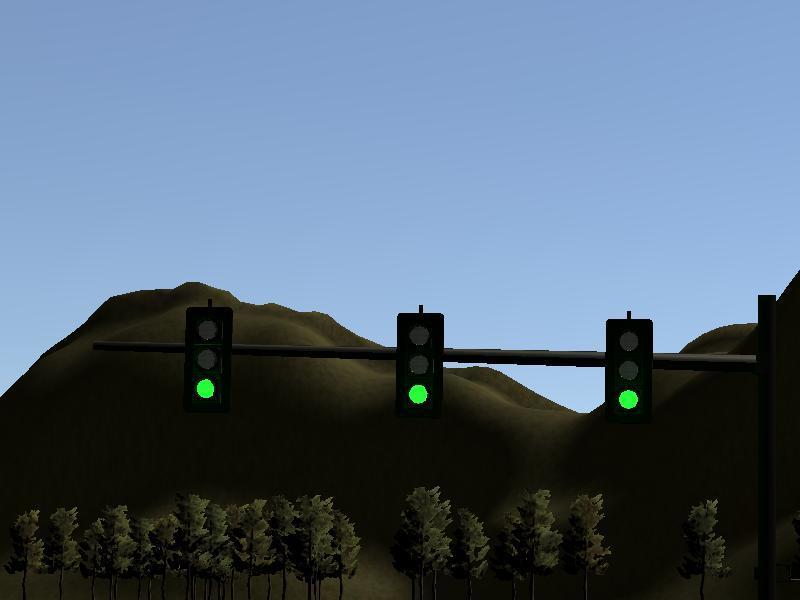Green: (184, 308, 231, 415), (605, 318, 652, 425), (396, 312, 443, 419)
